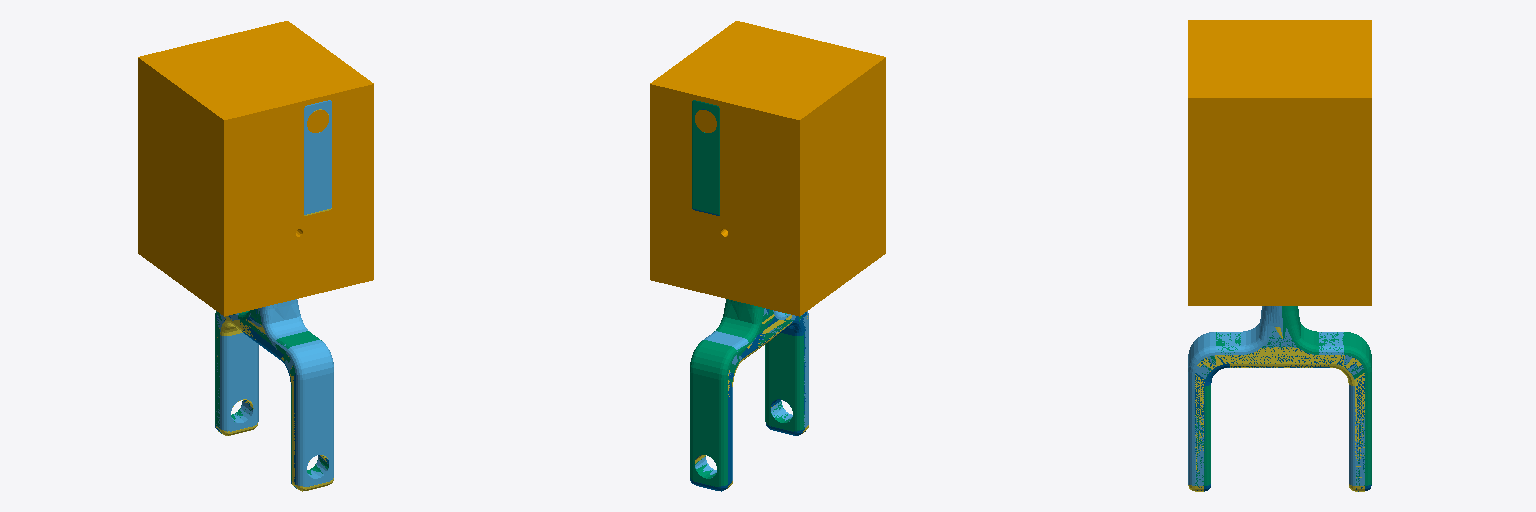
The robot description file, URDF, robot "simplebot_v12":
<?xml version="1.0"?>
<robot name="simplebot_v12">
	<link name="body_v2:1">
		<inertial>
			<mass value="0.6270135399067726"/>
			<origin rpy="0 0 0" xyz="-1.6368194021527588e-16 0.0 0.02501302876295383"/>
			<inertia ixx="0.00021436713359791008" ixy="0.0" ixz="-8.268457026766289e-19" iyy="0.00021449841499530126" iyz="0.0" izz="0.00016733489203919717"/>
		</inertial>
		<collision name="body_v2:1_collision">
			<origin rpy="0.0 -0.0 0.0" xyz="0.0 0.0 0.0"/>
			<geometry>
				<mesh filename="./meshes/body_v2.stl" scale="1.0 1.0 1.0"/>
			</geometry>
		</collision>
		<visual name="body_v2:1_visual">
			<origin rpy="0.0 -0.0 0.0" xyz="0.0 0.0 0.0"/>
			<geometry>
				<mesh filename="./meshes/body_v2.stl" scale="1.0 1.0 1.0"/>
			</geometry>
		</visual>
	</link>
	<link name="arm_v5:4">
		<inertial>
			<mass value="0.08672920153779431"/>
			<origin rpy="0 0 0" xyz="5.61973798496318e-09 -0.02000005549761377 -0.04400002004079691"/>
			<inertia ixx="7.579976082038588e-05" ixy="-1.327769300555852e-10" ixz="-9.929237480342638e-12" iyy="6.052090444595709e-05" iyz="2.758813504311064e-11" izz="1.665793336539927e-05"/>
		</inertial>
		<collision name="arm_v5:4_collision">
			<origin rpy="-1.5313421029312507e-16 -0.0 0.0" xyz="-0.005 -0.02 -0.044"/>
			<geometry>
				<mesh filename="./meshes/arm_v5.stl" scale="1.0 1.0 1.0"/>
			</geometry>
		</collision>
		<visual name="arm_v5:4_visual">
			<origin rpy="-1.5313421029312507e-16 -0.0 0.0" xyz="-0.005 -0.02 -0.044"/>
			<geometry>
				<mesh filename="./meshes/arm_v5.stl" scale="1.0 1.0 1.0"/>
			</geometry>
		</visual>
	</link>
	<link name="arm_v5:5">
		<inertial>
			<mass value="0.08672920153779431"/>
			<origin rpy="0 0 0" xyz="5.61973798496318e-09 0.019999944502386225 -0.04400002004079691"/>
			<inertia ixx="7.579976082038588e-05" ixy="-1.327769300555852e-10" ixz="-9.92923748034268e-12" iyy="6.052090444595709e-05" iyz="2.75881350653151e-11" izz="1.665793336539927e-05"/>
		</inertial>
		<collision name="arm_v5:5_collision">
			<origin rpy="1.5313421029312503e-16 -0.0 0.0" xyz="-0.005 0.019999999999999993 -0.044"/>
			<geometry>
				<mesh filename="./meshes/arm_v5.stl" scale="1.0 1.0 1.0"/>
			</geometry>
		</collision>
		<visual name="arm_v5:5_visual">
			<origin rpy="1.5313421029312503e-16 -0.0 0.0" xyz="-0.005 0.019999999999999993 -0.044"/>
			<geometry>
				<mesh filename="./meshes/arm_v5.stl" scale="1.0 1.0 1.0"/>
			</geometry>
		</visual>
	</link>
	<link name="arm_v5:6">
		<inertial>
			<mass value="0.08672920153779431"/>
			<origin rpy="0 0 0" xyz="5.61973798496318e-09 -0.015000055497613716 -0.04400002004079688"/>
			<inertia ixx="7.579976082038495e-05" ixy="-1.3277693005558354e-10" ixz="-9.929237480342469e-12" iyy="6.0520904445956344e-05" iyz="2.758813502090618e-11" izz="1.665793336539927e-05"/>
		</inertial>
		<collision name="arm_v5:6_collision">
			<origin rpy="-9.62978591651072e-16 2.9508961634435116e-36 5.505714157152939e-21" xyz="-0.0049999999999999715 -0.014999999999999947 -0.043999999999999984"/>
			<geometry>
				<mesh filename="./meshes/arm_v5.stl" scale="1.0 1.0 1.0"/>
			</geometry>
		</collision>
		<visual name="arm_v5:6_visual">
			<origin rpy="-9.62978591651072e-16 2.9508961634435116e-36 5.505714157152939e-21" xyz="-0.0049999999999999715 -0.014999999999999947 -0.043999999999999984"/>
			<geometry>
				<mesh filename="./meshes/arm_v5.stl" scale="1.0 1.0 1.0"/>
			</geometry>
		</visual>
	</link>
	<link name="arm_v5:7">
		<inertial>
			<mass value="0.08672920153779431"/>
			<origin rpy="0 0 0" xyz="5.61973798496318e-09 0.014999944502386248 -0.04400002004079688"/>
			<inertia ixx="7.579976082038549e-05" ixy="-1.3277693005558458e-10" ixz="-9.929237480342782e-12" iyy="6.0520904445956704e-05" iyz="2.758813510972402e-11" izz="1.665793336539927e-05"/>
		</inertial>
		<collision name="arm_v5:7_collision">
			<origin rpy="1.0395456967976358e-15 -1.232242353965429e-36 2.0117032497289618e-21" xyz="-0.004999999999999989 0.015000000000000017 -0.043999999999999984"/>
			<geometry>
				<mesh filename="./meshes/arm_v5.stl" scale="1.0 1.0 1.0"/>
			</geometry>
		</collision>
		<visual name="arm_v5:7_visual">
			<origin rpy="1.0395456967976358e-15 -1.232242353965429e-36 2.0117032497289618e-21" xyz="-0.004999999999999989 0.015000000000000017 -0.043999999999999984"/>
			<geometry>
				<mesh filename="./meshes/arm_v5.stl" scale="1.0 1.0 1.0"/>
			</geometry>
		</visual>
	</link>
	<joint name="rev0" type="continuous">
		<parent link="body_v2:1"/>
		<child link="arm_v5:4"/>
		<origin rpy="0 0 0" xyz="0.0 -0.02 0.01671866065705706"/>
		<axis xyz="0.0 1.0 0.0"/>
	</joint>
	<joint name="rev1" type="continuous">
		<parent link="arm_v5:4"/>
		<child link="arm_v5:6"/>
		<origin rpy="0 0 0" xyz="0.0 -2.7755575615628914e-17 -0.088"/>
		<axis xyz="0.0 -1.0 5.359697360259377e-16"/>
	</joint>
	<joint name="rev2" type="continuous">
		<parent link="body_v2:1"/>
		<child link="arm_v5:5"/>
		<origin rpy="0 0 0" xyz="0.0 0.020000000000000007 0.01671866065705706"/>
		<axis xyz="0.0 -1.0 0.0"/>
	</joint>
	<joint name="rev3" type="continuous">
		<parent link="arm_v5:5"/>
		<child link="arm_v5:7"/>
		<origin rpy="0 0 0" xyz="0.0 0.0 -0.088"/>
		<axis xyz="0.0 1.0 6.125368411725003e-16"/>
	</joint>
</robot>

--- Render facts (derived) ---
Views: 3 orthographic renders of the robot side by side, from view 1: azimuth 30°, elevation 25°; view 2: azimuth 150°, elevation 25°; view 3: azimuth 270°, elevation 25°.
Robot: simplebot_v12 — 5 links, 4 joints (4 continuous); root link body_v2:1; default pose: every joint at zero.
Visible links, largest first — view 1: body_v2:1, arm_v5:4, arm_v5:5, arm_v5:6, arm_v5:7; view 2: body_v2:1, arm_v5:5, arm_v5:4, arm_v5:7; view 3: body_v2:1, arm_v5:4, arm_v5:5, arm_v5:6, arm_v5:7.
Link boxes in pixels (bbox=[...]): body_v2:1: bbox=[138, 21, 373, 316]; arm_v5:4: bbox=[216, 100, 333, 486]; arm_v5:5: bbox=[215, 309, 328, 480]; arm_v5:6: bbox=[216, 109, 333, 491]; arm_v5:7: bbox=[215, 309, 328, 488]; body_v2:1: bbox=[650, 21, 885, 316]; arm_v5:5: bbox=[690, 100, 804, 486]; arm_v5:4: bbox=[695, 308, 808, 480]; arm_v5:7: bbox=[690, 109, 806, 491]; body_v2:1: bbox=[1188, 20, 1371, 305]; arm_v5:4: bbox=[1188, 306, 1364, 485]; arm_v5:5: bbox=[1195, 306, 1371, 485]; arm_v5:6: bbox=[1188, 327, 1364, 491]; arm_v5:7: bbox=[1195, 339, 1371, 491].
Bounding box of the posed robot: 40 × 40.08 × 100 m (x, y, z).
Meshes: 2 distinct files referenced, 5 mesh visuals loaded (2 binary STL).
